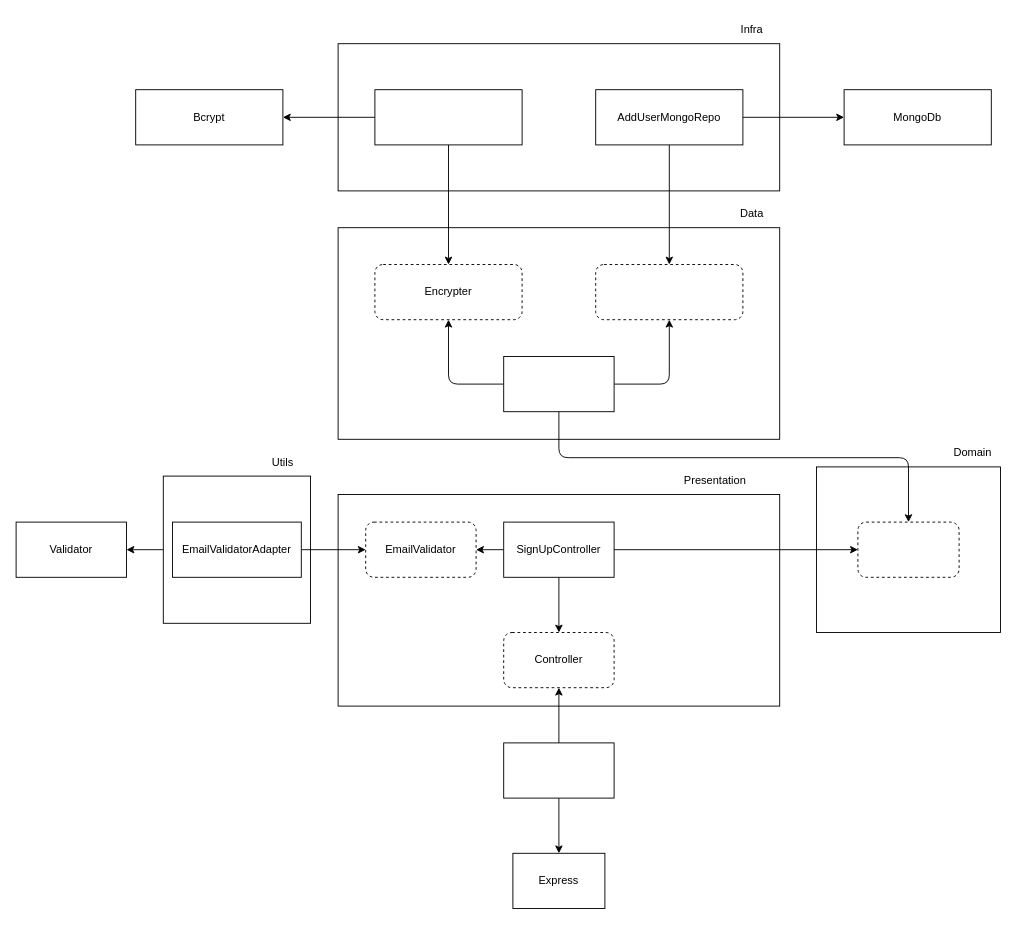
Some shapes in this 1017 by 925 pixel diagram are drawn without their labels. The shapes that lost their labels are listed below. From the top down, each one's centre as x and y in pixels, then its label:
At (448,117): "BcryptAdapter".
At (669,292): "AddUserRepoAdapter".
At (558,384): "DbAddAccount".
At (908,549): "AddAccount".
At (558,770): "ExpressAdapter".
